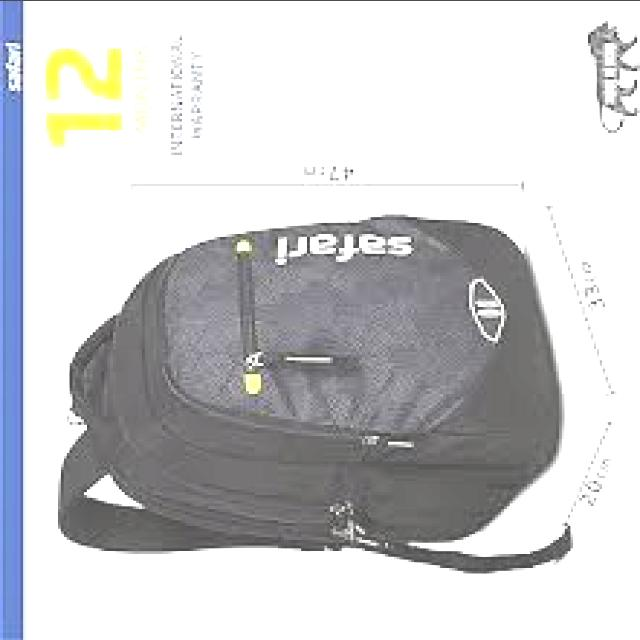backpack: (56, 215, 578, 577)
